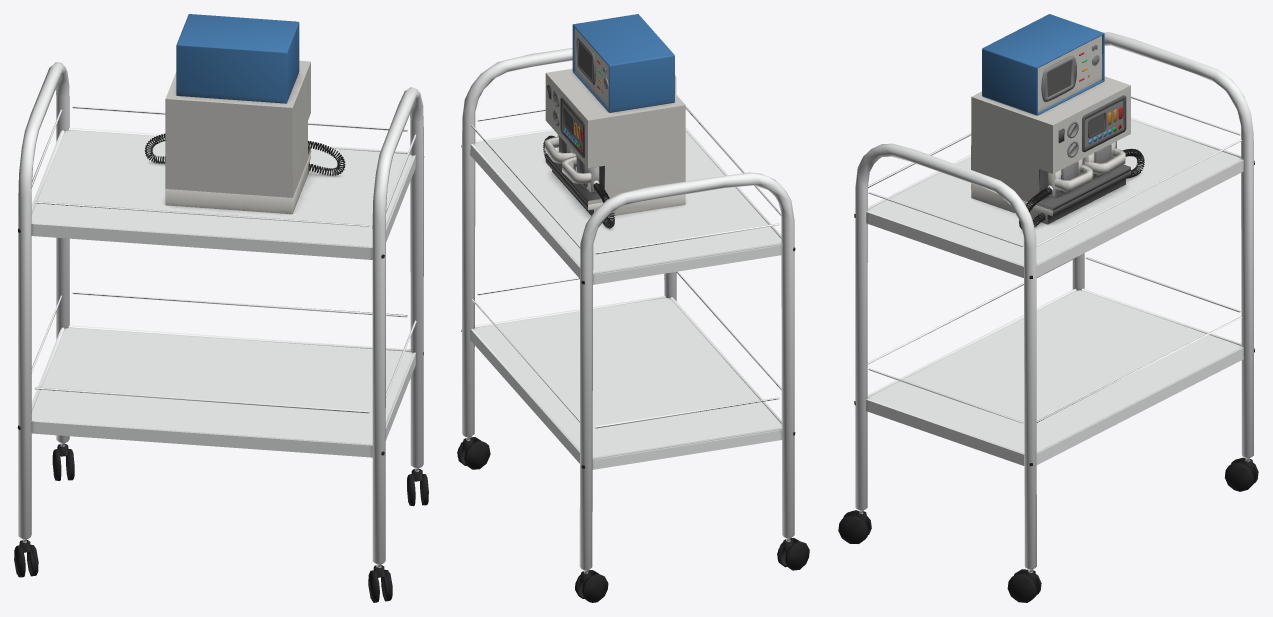
File: defibrillator.fbx
3 views of the same model, side by side, from view 1: azimuth 30°, elevation 25°; view 2: azimuth 150°, elevation 25°; view 3: azimuth 270°, elevation 25° (orthographic). The views are drawn at different scales.
Parts seen in each view (by area): view 1: defibrillator; view 2: defibrillator; view 3: defibrillator.
Part boxes in pixels (x1,y1,x2,y2): defibrillator: (14,14,428,602); defibrillator: (457,14,809,602); defibrillator: (838,14,1258,602).
Size of the model in its own units: 61.4 by 76.07 by 60.27.
